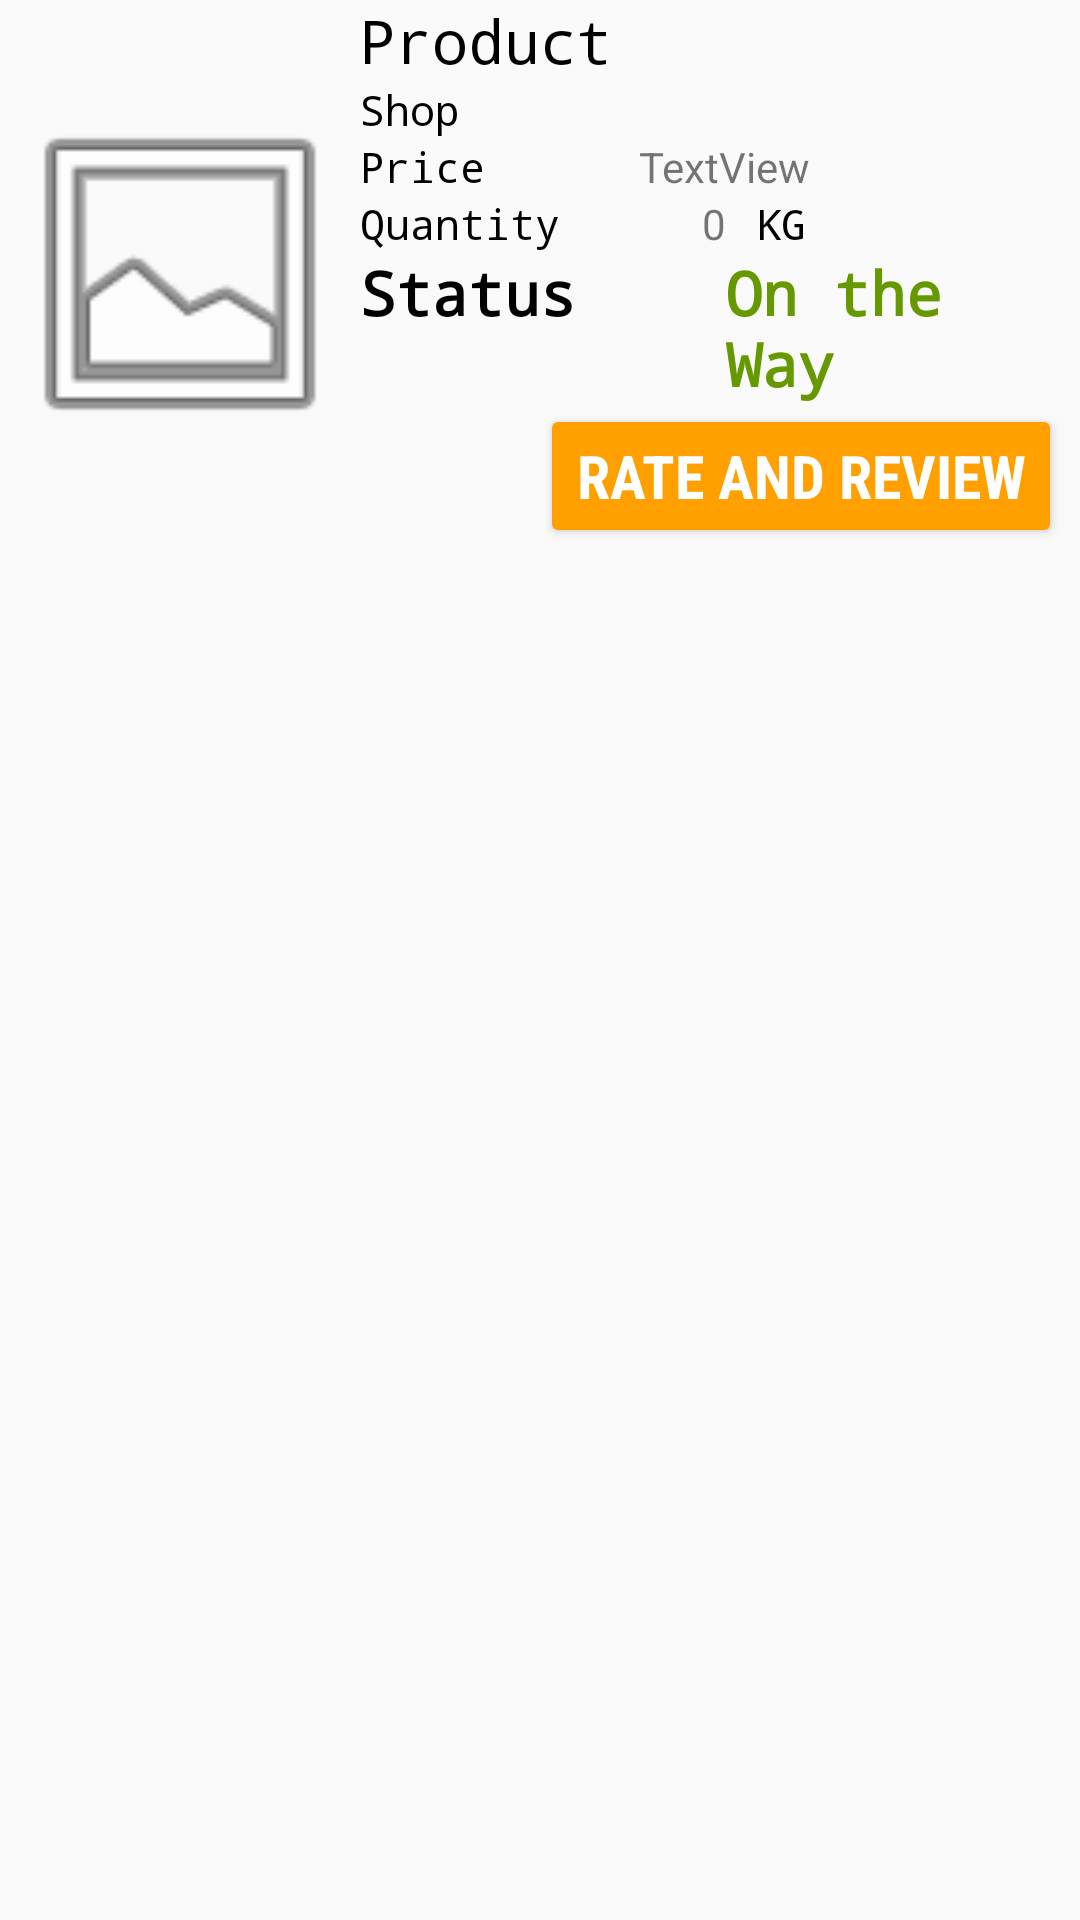

Icon click points for this 1080×1920 phone screenshot, format [x,y]:
gallery: [180,274]
